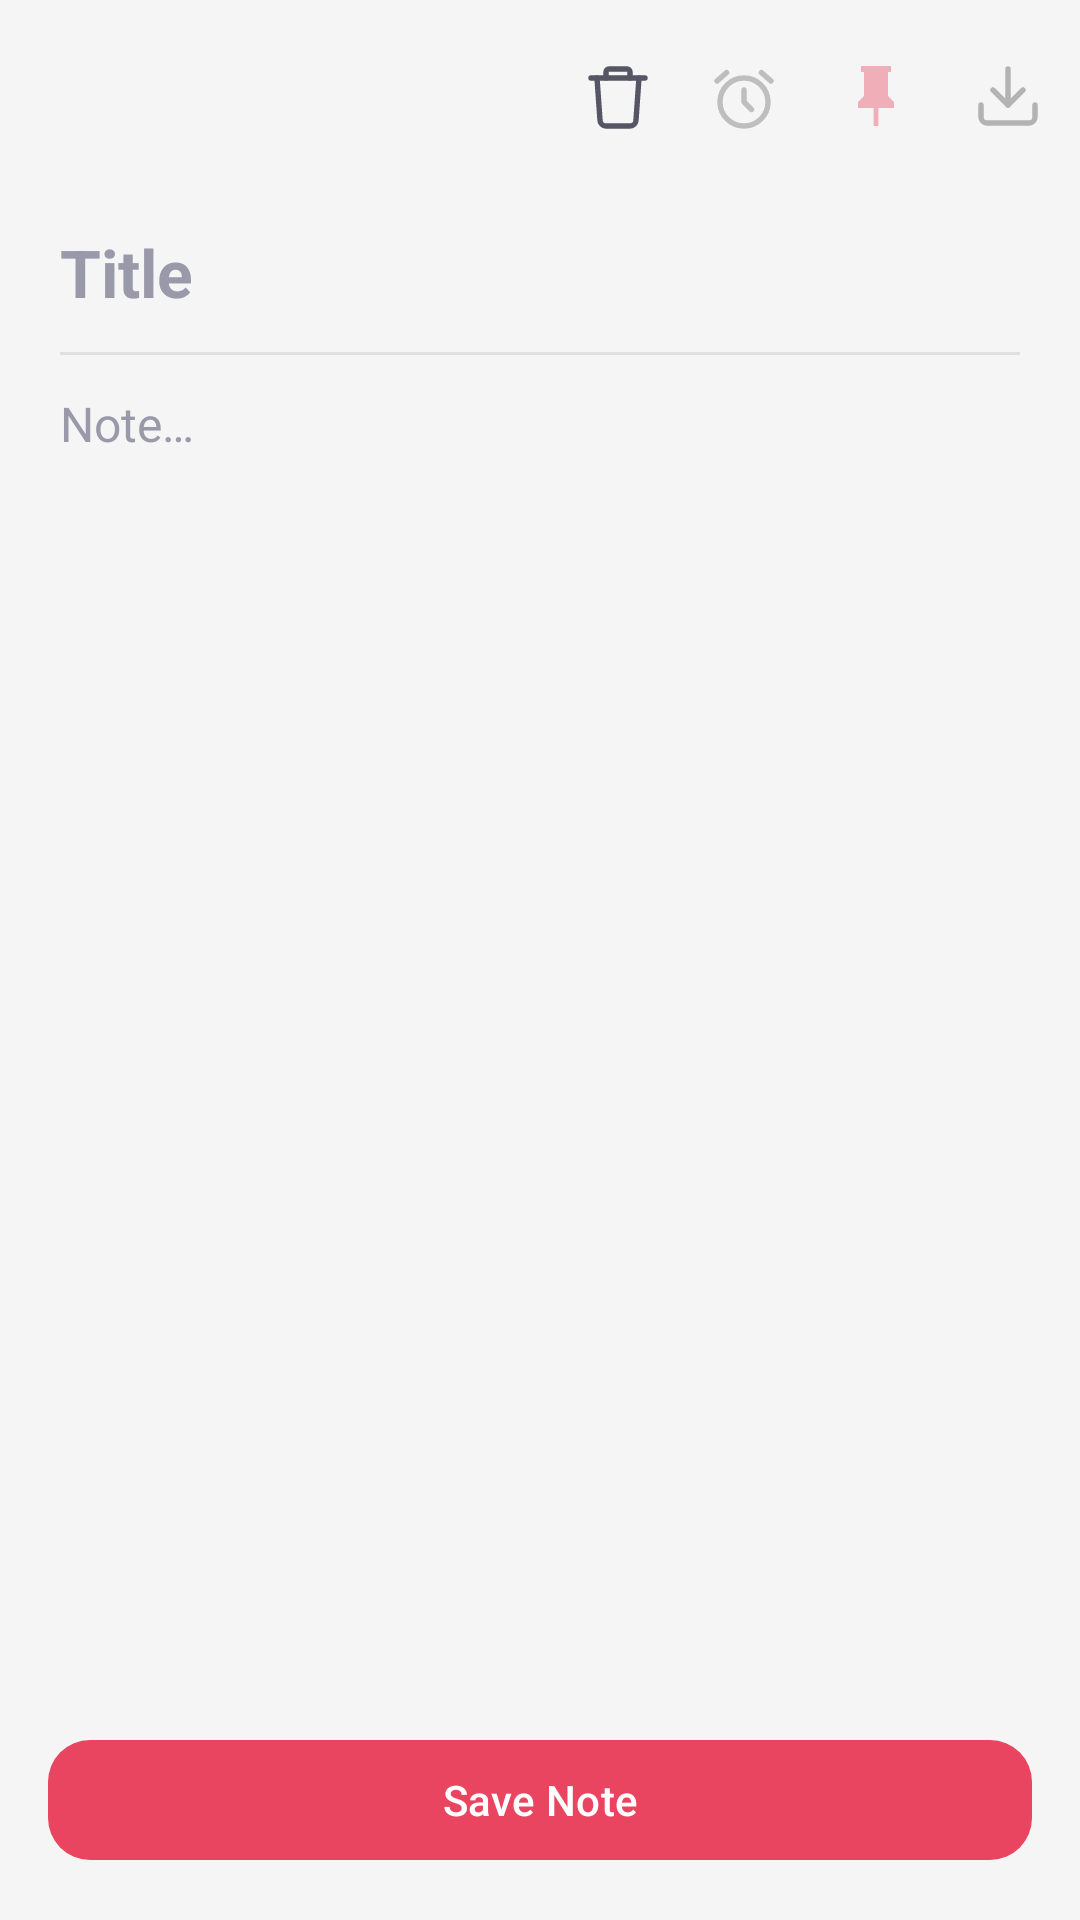

Named icons in this screenshot (1080x1920) and their bounding boxes, (x1, y1, x2, y2):
Delete note: (588, 66, 648, 129)
Download note: (978, 66, 1038, 126)
Pin note: (858, 66, 894, 126)
Set reminder: (714, 70, 774, 129)
